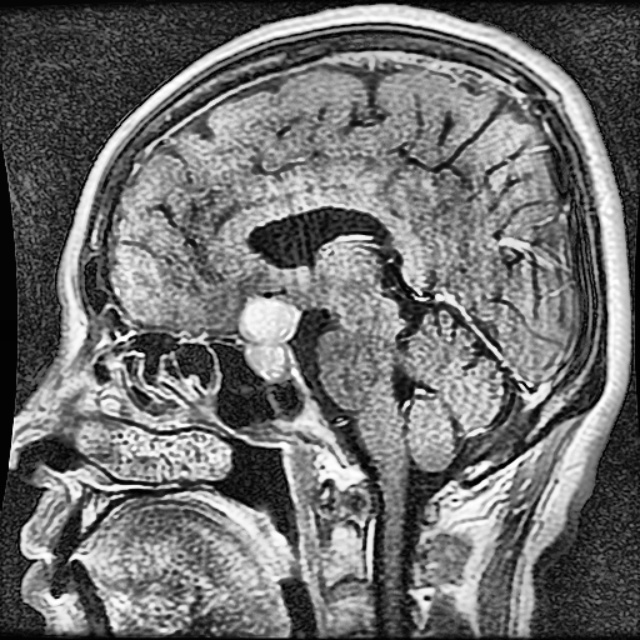Pituitary: (240, 298, 297, 379)
